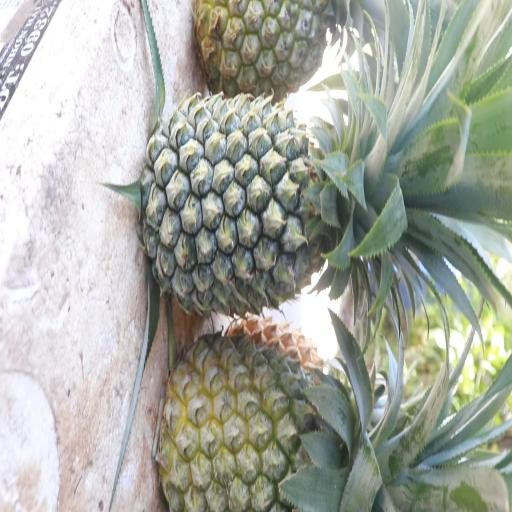------------------------------: (157, 324, 364, 512), (198, 0, 341, 95)
